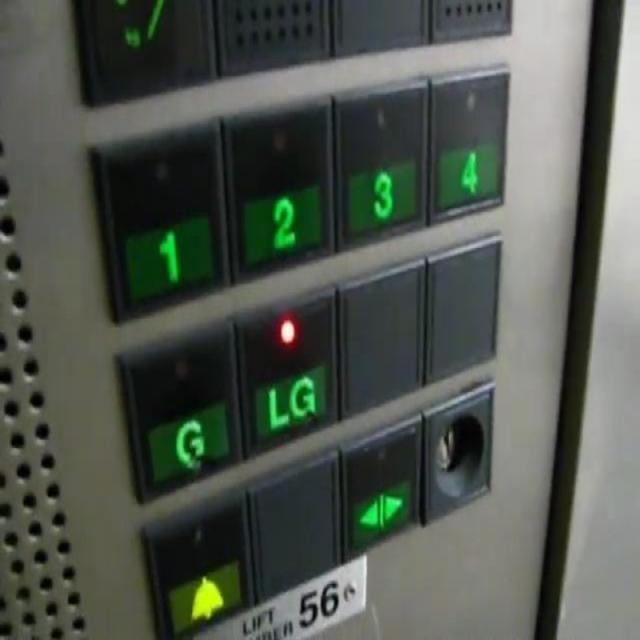1: (123, 212, 221, 307)
2: (239, 180, 325, 259)
3: (346, 164, 418, 228)
4: (436, 140, 500, 201)
G: (145, 400, 229, 484)
LG: (252, 362, 326, 434)
alarm: (166, 562, 242, 626)
open: (352, 475, 414, 545)
